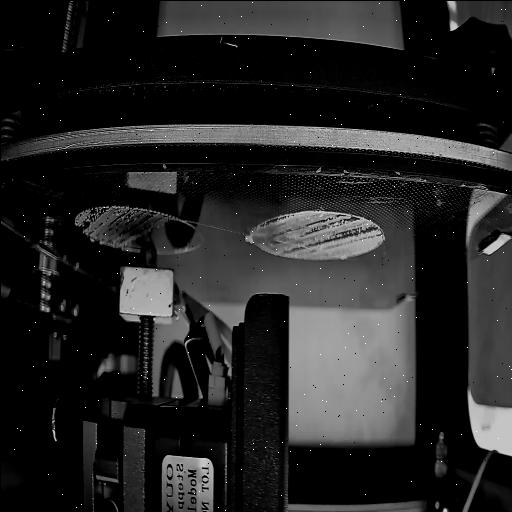under_extrusion: (256, 211, 380, 252), (74, 208, 168, 252)
